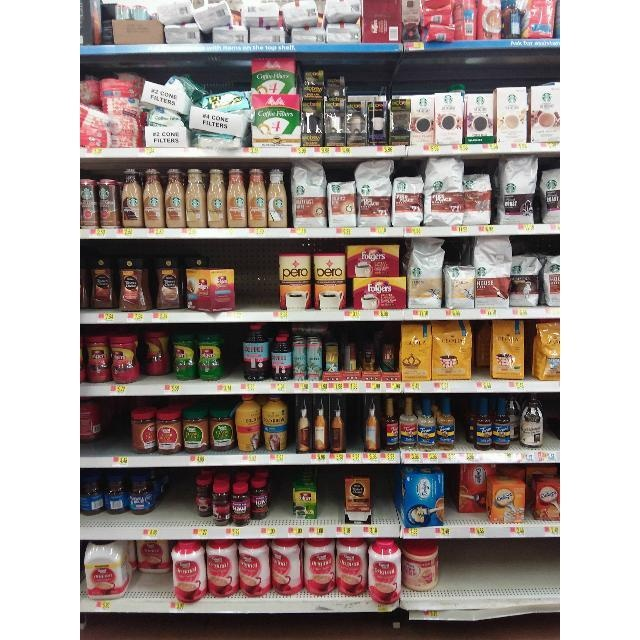empty: (440, 539, 560, 601), (235, 238, 278, 311), (317, 465, 344, 525), (106, 396, 131, 456), (173, 466, 196, 528), (372, 464, 395, 526), (271, 465, 292, 525), (224, 322, 243, 383), (542, 393, 559, 450), (444, 464, 456, 526)
front: (133, 572, 173, 600), (79, 515, 162, 528), (456, 513, 485, 525), (139, 376, 175, 384), (80, 447, 106, 457), (471, 367, 488, 380), (293, 519, 317, 525), (455, 444, 472, 452)
